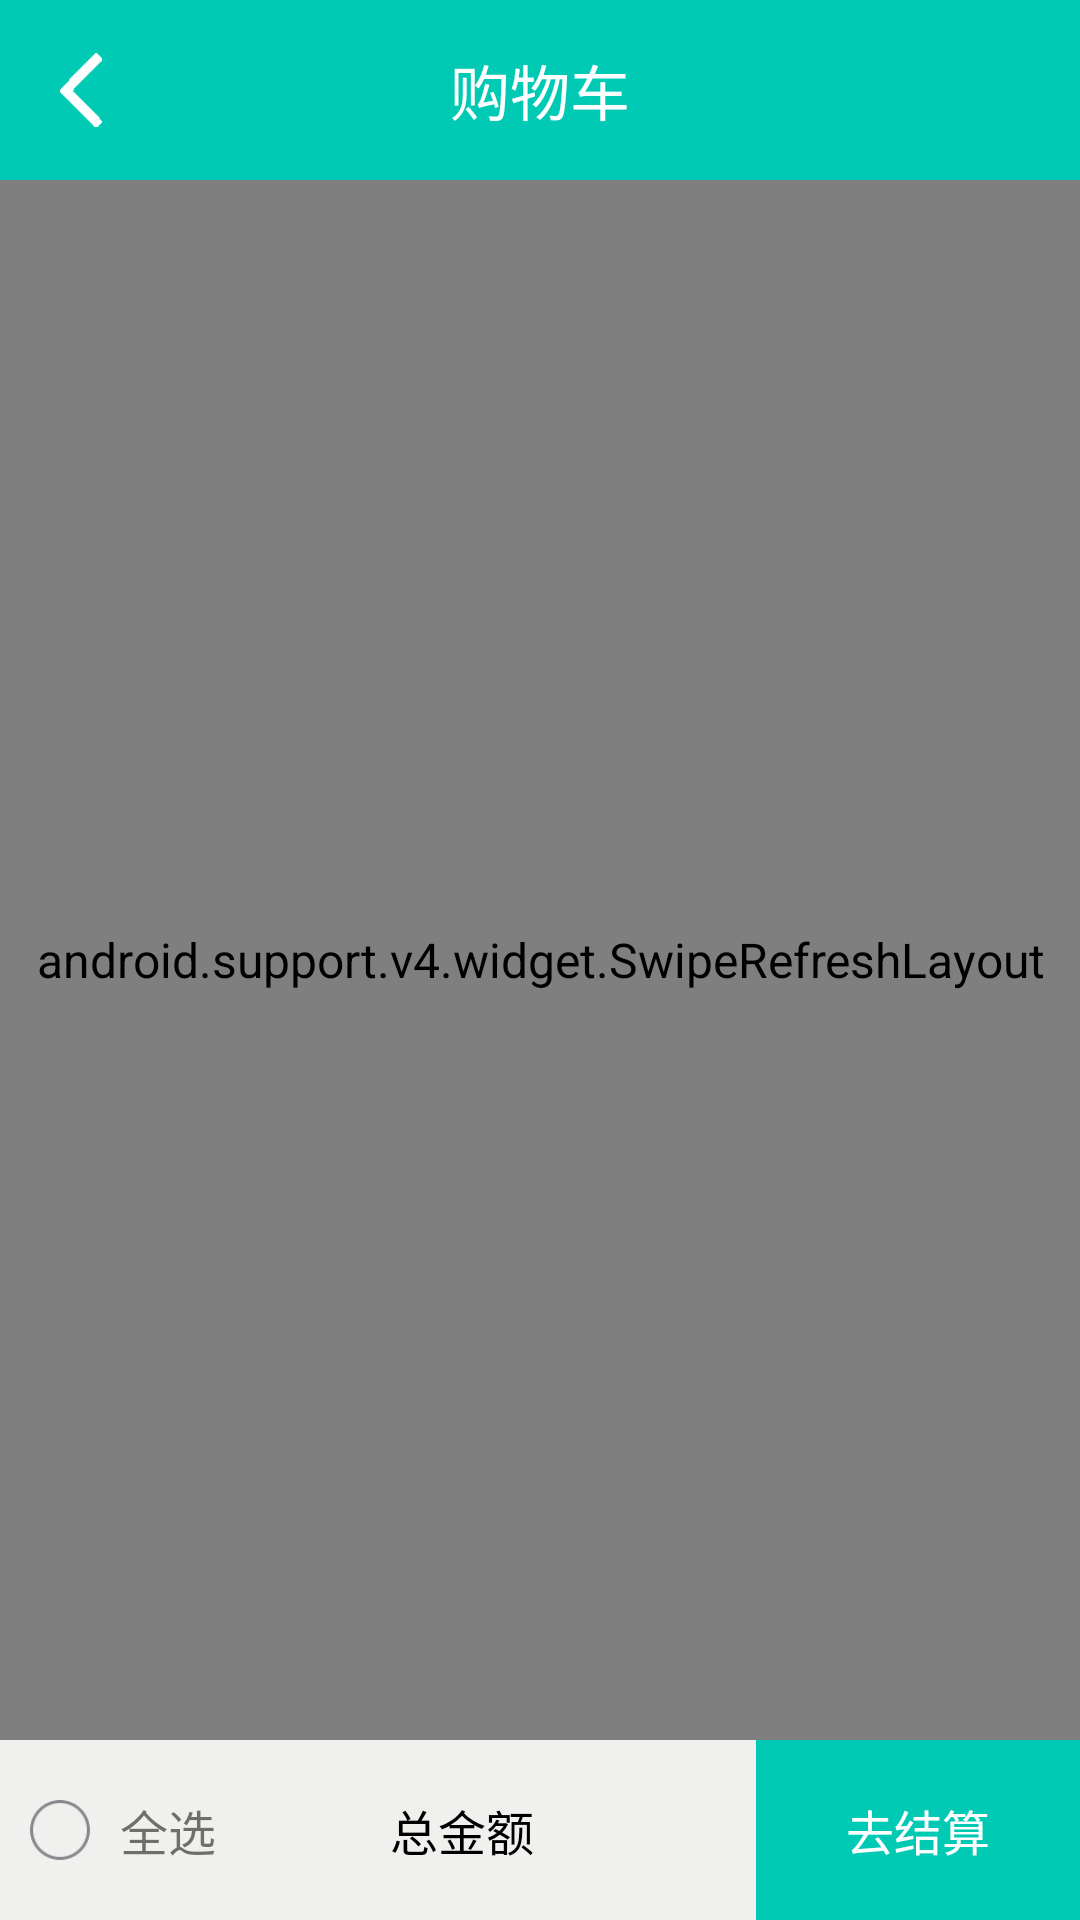

Screen size 1080 x 1920. Icon name, then its center in pixels as point (x, y):
back: point (81, 90)
